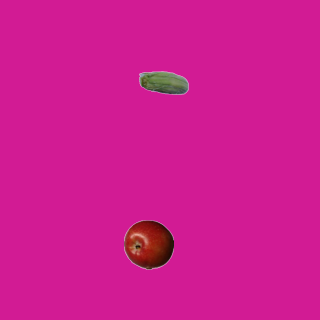Apple Braeburn: (123, 219, 173, 269)
Corn Husk: (138, 59, 188, 109)
